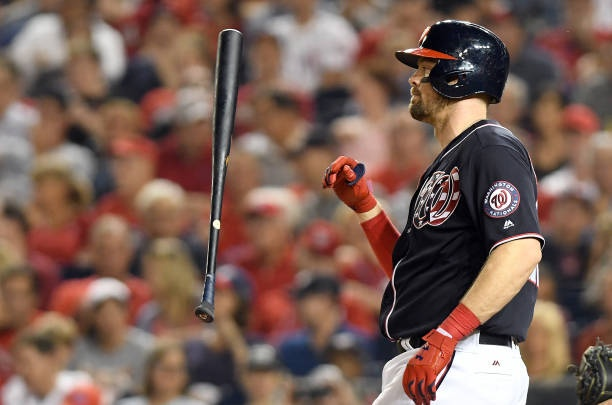bita: (192, 27, 244, 320)
